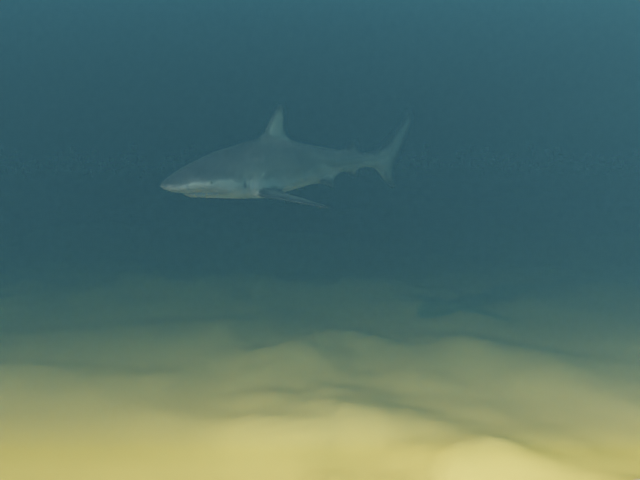Carribean Shark.001: (160, 104, 410, 208)
